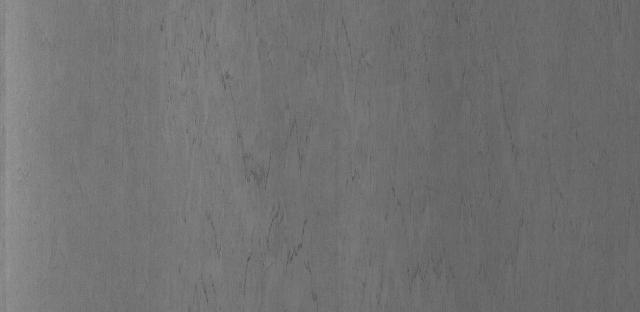silk_spot: (158, 24, 395, 296)
